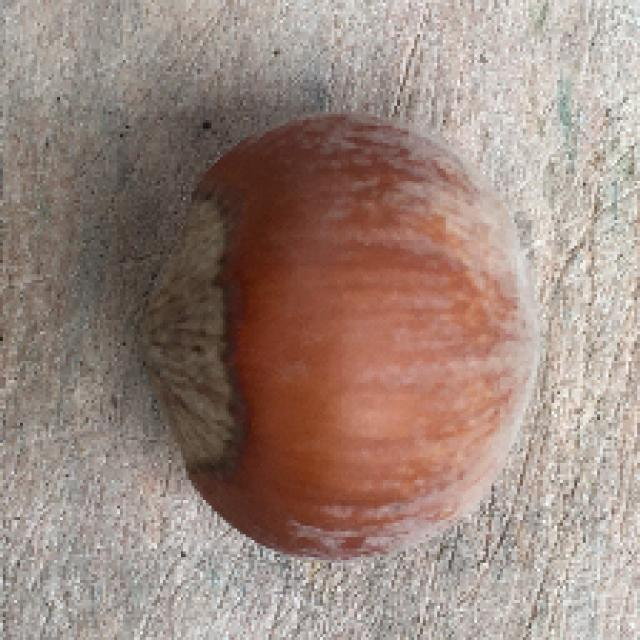qualityHazelnut: (138, 109, 545, 566)
